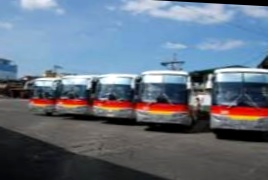bus: (208, 66, 268, 139), (132, 67, 198, 131), (91, 73, 139, 124), (27, 77, 61, 115)
